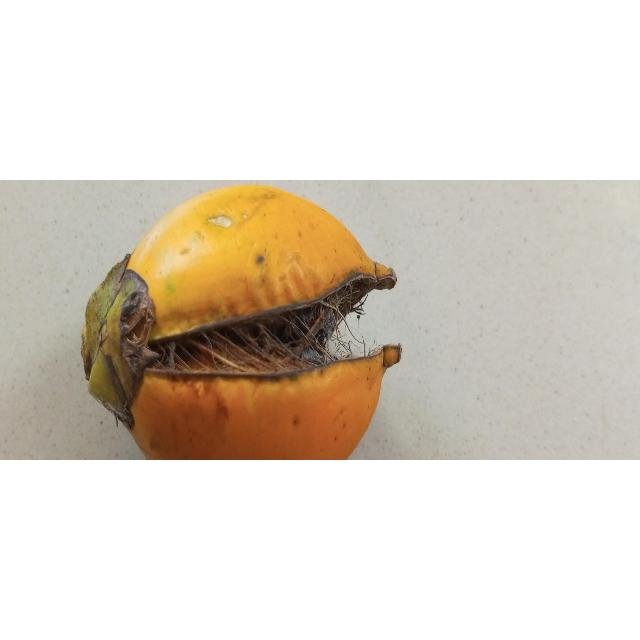damaged: (81, 185, 402, 461)
